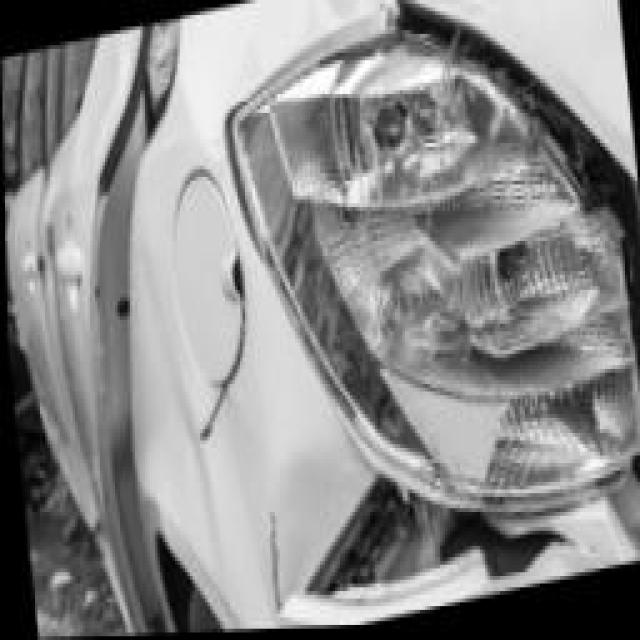Fender: (215, 478, 288, 631)
Light: (295, 0, 620, 502)
